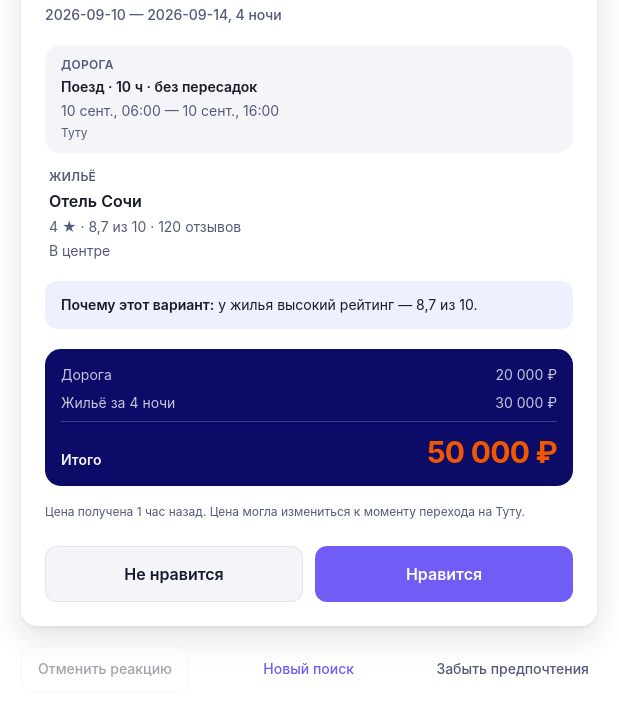
Test case: swipe feed › F31: sends the human-readable dislike reason не тот город and shows its effect
(page scrolled)
Click the button "Не нравится": (174, 574) [45,546,303,602]
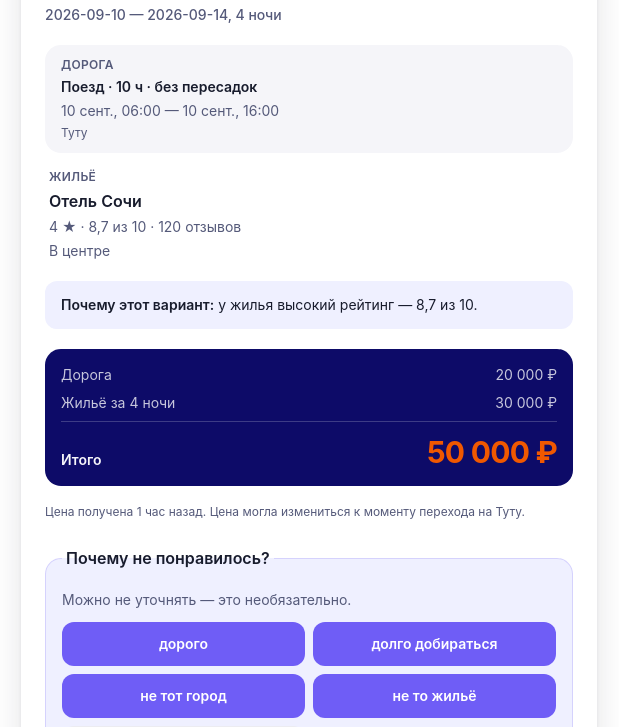
Click the button "не тот город": (184, 696) [62,674,305,718]
(page scrolled)
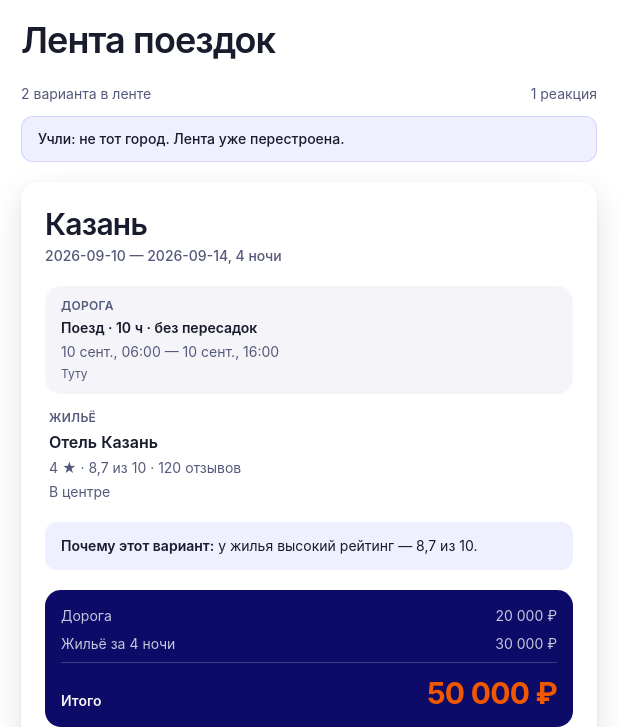
Check: the heading "Казань" is shown, box [45,206,147,242]
